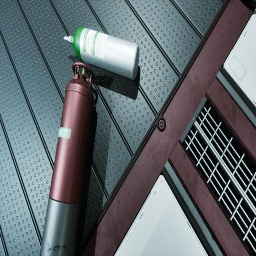0: (64, 27, 139, 80)
NitrogenTank ,: (40, 61, 95, 256)
